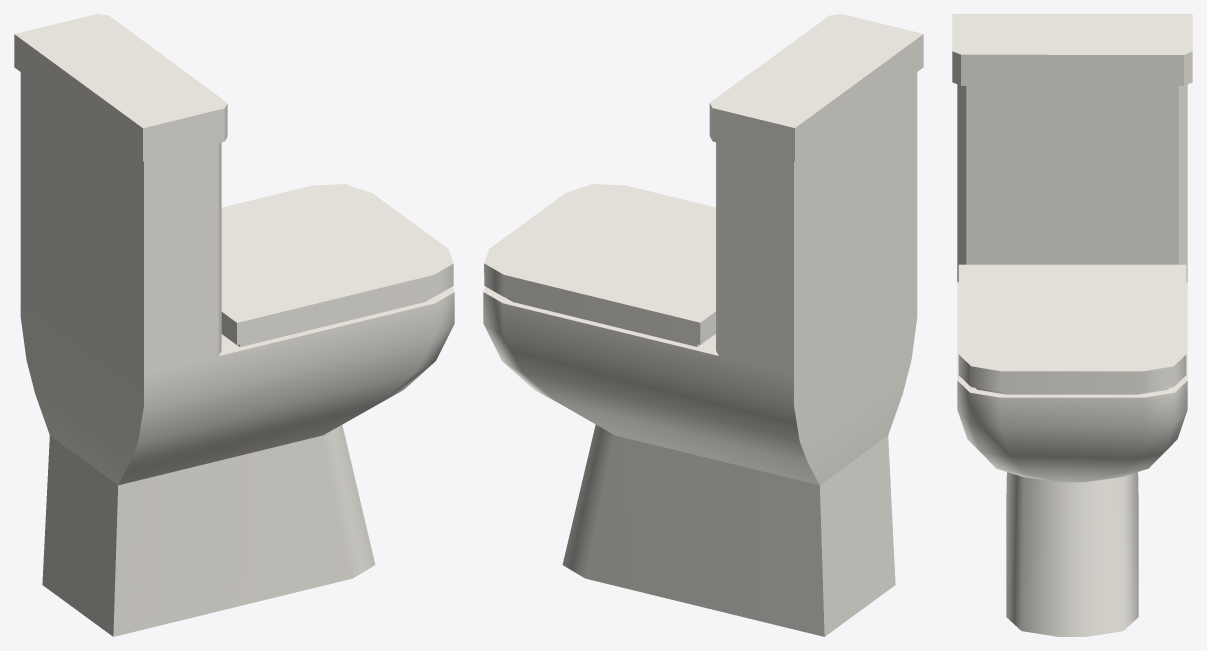
File: Toilet.obj
The picture shows the model from 3 angles, left to right: view 1: azimuth 30°, elevation 25°; view 2: azimuth 150°, elevation 25°; view 3: azimuth 270°, elevation 25°; orthographic projection. The views are drawn at different scales.
Visible parts, largest first — view 1: Toilet2; view 2: Toilet2; view 3: Toilet2.
Boxes of the visible parts, bbox=[...] form: Toilet2: bbox=[14, 14, 454, 636]; Toilet2: bbox=[483, 14, 923, 636]; Toilet2: bbox=[952, 14, 1192, 636].
Size of the model in its own units: 84.66 by 129 by 56.69.
